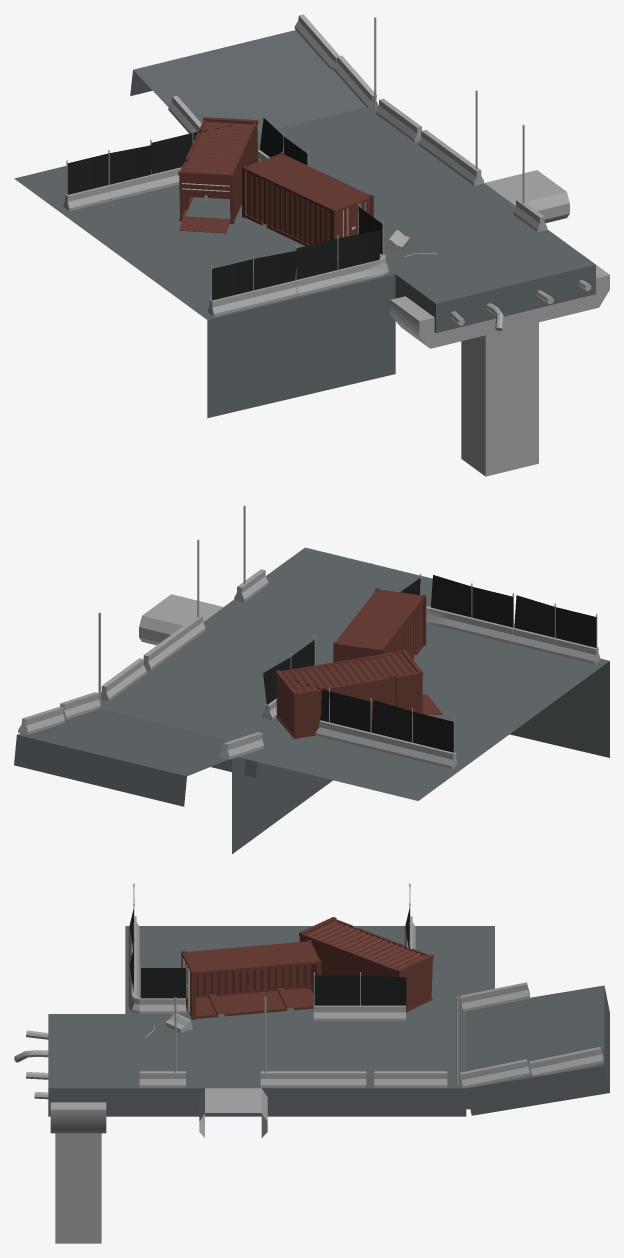
Rendered from bloco defend tut.fbx.
3 views of the same model, one above another, from view 1: azimuth 30°, elevation 25°; view 2: azimuth 150°, elevation 25°; view 3: azimuth 270°, elevation 25° (orthographic). The views are drawn at different scales.
Parts seen in each view (by area): view 1: polySurface34, pCube85, pCube82, pCube95, parede_frente5 (×2), teto_container6 (×2), polySurface40, polySurface17, polySurface39, pCube94, pCube84, polySurface64 (+9 smaller); view 2: polySurface34, pCube85, pCube82, polySurface39, polySurface17, polySurface40, parede_frente5 (×2), base_container6, teto_container6, pCube84, pPlane1, polySurface38 (+7 smaller); view 3: pCube85, pCube82, polySurface34, pCube95, teto_container6 (×2), parede_frente5 (×2), polySurface38, base_container6, pCube84, pCube94, polySurface64, polySurface45 (+8 smaller).
Part boxes in pixels (x1,y1,x2,y2): polySurface34: (14,145,395,418); pCube85: (257,105,595,332); pCube82: (130,30,366,133); pCube95: (461,322,538,476); parede_frente5 (×2): (184,121,331,244); teto_container6 (×2): (229,122,370,220); polySurface40: (295,230,388,296); polySurface17: (63,145,152,211); polySurface39: (208,250,297,316); pCube94: (390,254,609,348); pCube84: (484,170,569,223); polySurface64: (418,130,483,185); polySurface34: (232,623,609,853); pCube85: (99,547,432,766); pCube82: (14,708,257,806); polySurface39: (511,595,600,664); polySurface17: (368,700,457,768); polySurface40: (426,575,514,643); parede_frente5 (×2): (283,601,422,692); base_container6: (293,672,422,738); teto_container6: (336,589,423,652); pCube84: (139,594,223,645); pPlane1: (295,681,370,732); polySurface38: (262,636,315,720); pCube85: (48,1014,466,1116); pCube82: (466,985,609,1115); polySurface34: (125,926,494,1109); pCube95: (55,1133,101,1243); teto_container6 (×2): (182,934,400,977); parede_frente5 (×2): (196,921,425,995); polySurface38: (313,972,406,1021); base_container6: (186,986,313,1018); pCube84: (199,1088,267,1137); pCube94: (50,1102,106,1133); polySurface64: (260,1071,366,1087); polySurface45: (141,968,186,998).
Size of the model in its own units: 1681 by 1124 by 2264.
